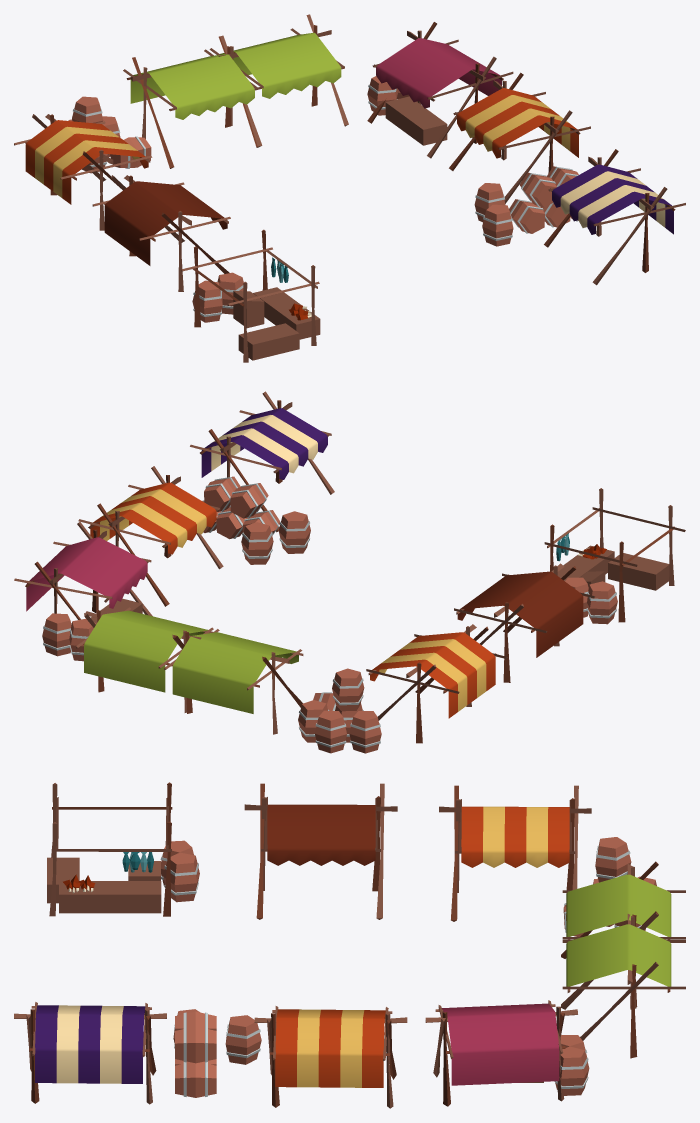
File: SM_Market_V2.fbx
The picture shows the model from 3 angles, top to bottom: view 1: azimuth 30°, elevation 25°; view 2: azimuth 150°, elevation 25°; view 3: azimuth 270°, elevation 25°; orthographic projection. The views are drawn at different scales.
Parts seen in each view (by area): view 1: Plane.005; view 2: Plane.005; view 3: Plane.005.
Part boxes in pixels (<box>): Plane.005: <box>14,14,685,362</box>; Plane.005: <box>14,391,685,753</box>; Plane.005: <box>14,782,685,1108</box>.
Size of the model in its own units: 1040 by 181 by 1127.
